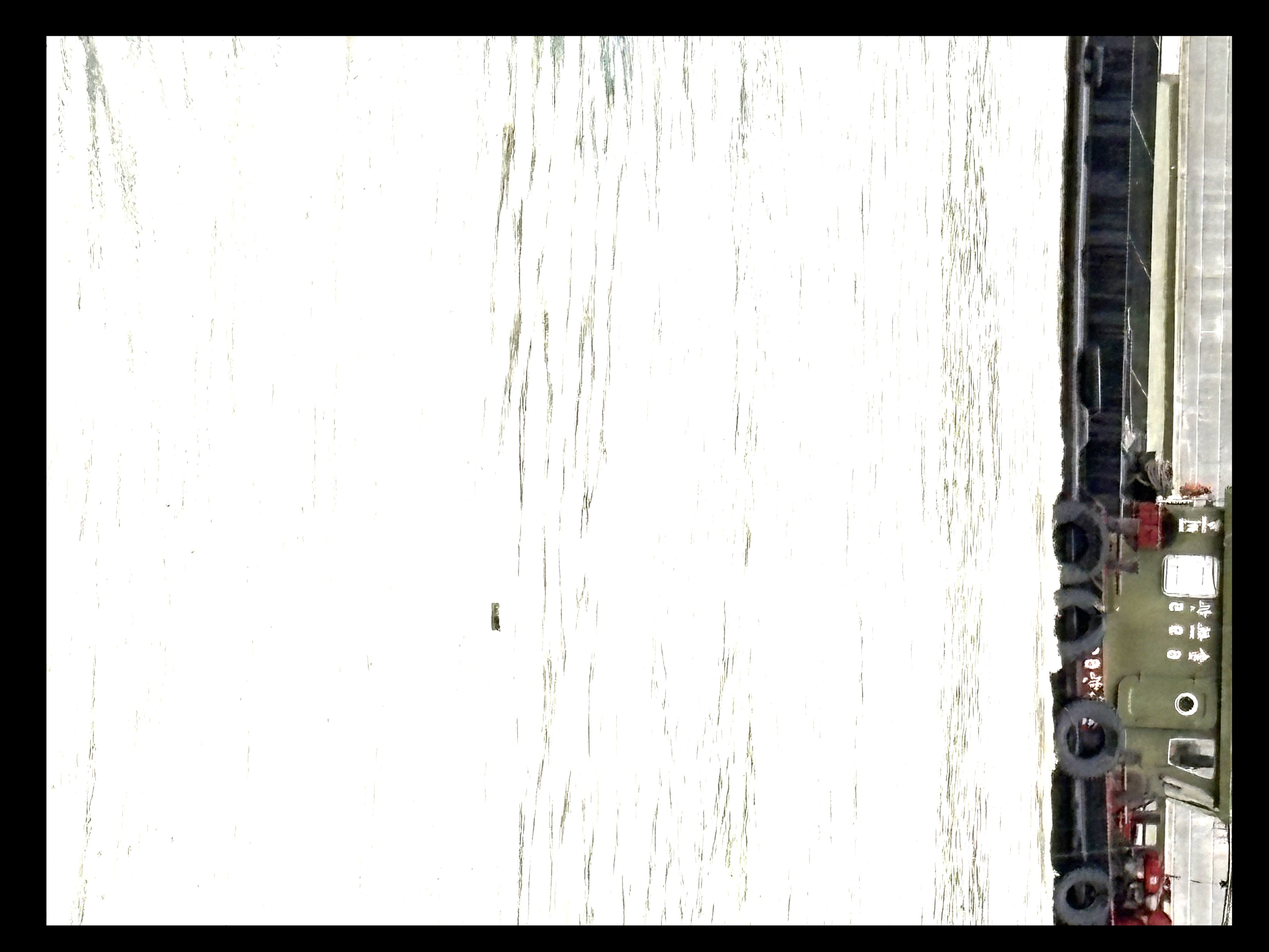Plastic wastes: (963, 292, 973, 361), (900, 589, 914, 624)
